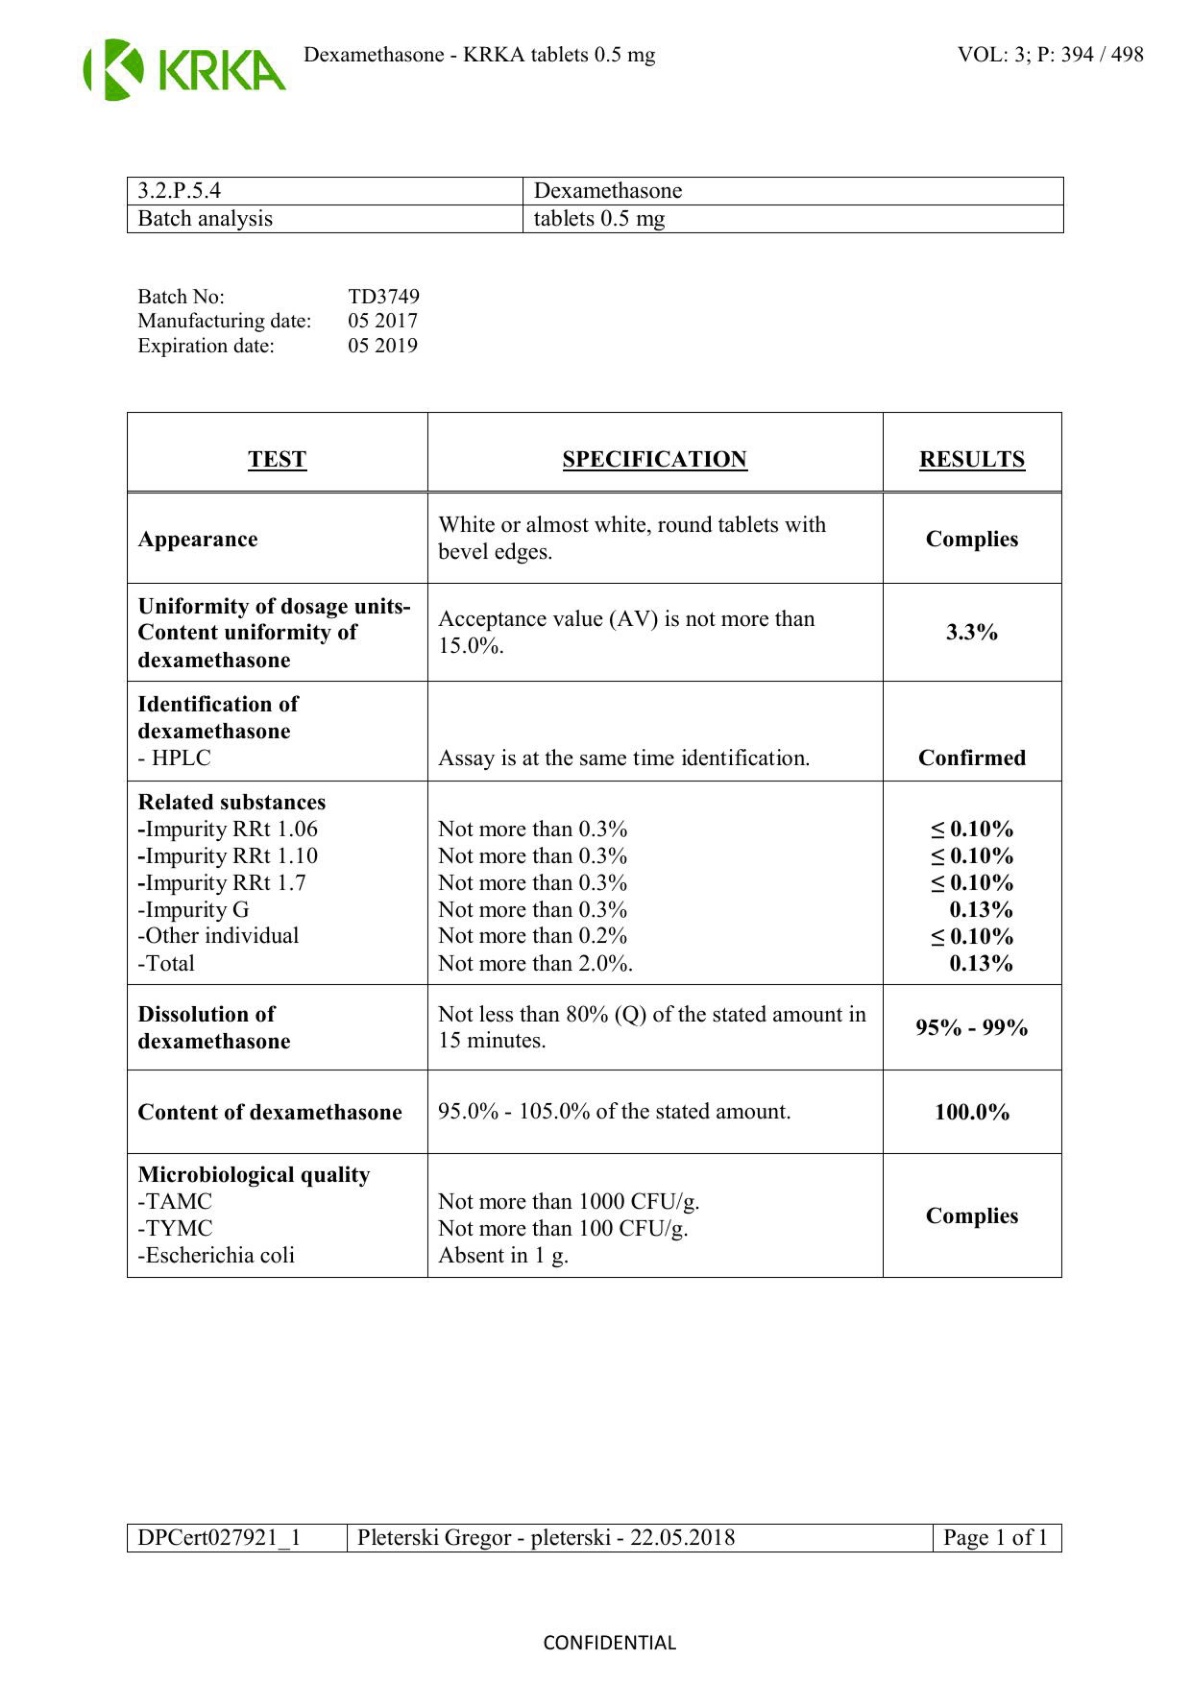full_lined: (126, 411, 1063, 1278), (126, 175, 1066, 233), (126, 1523, 1063, 1552)
